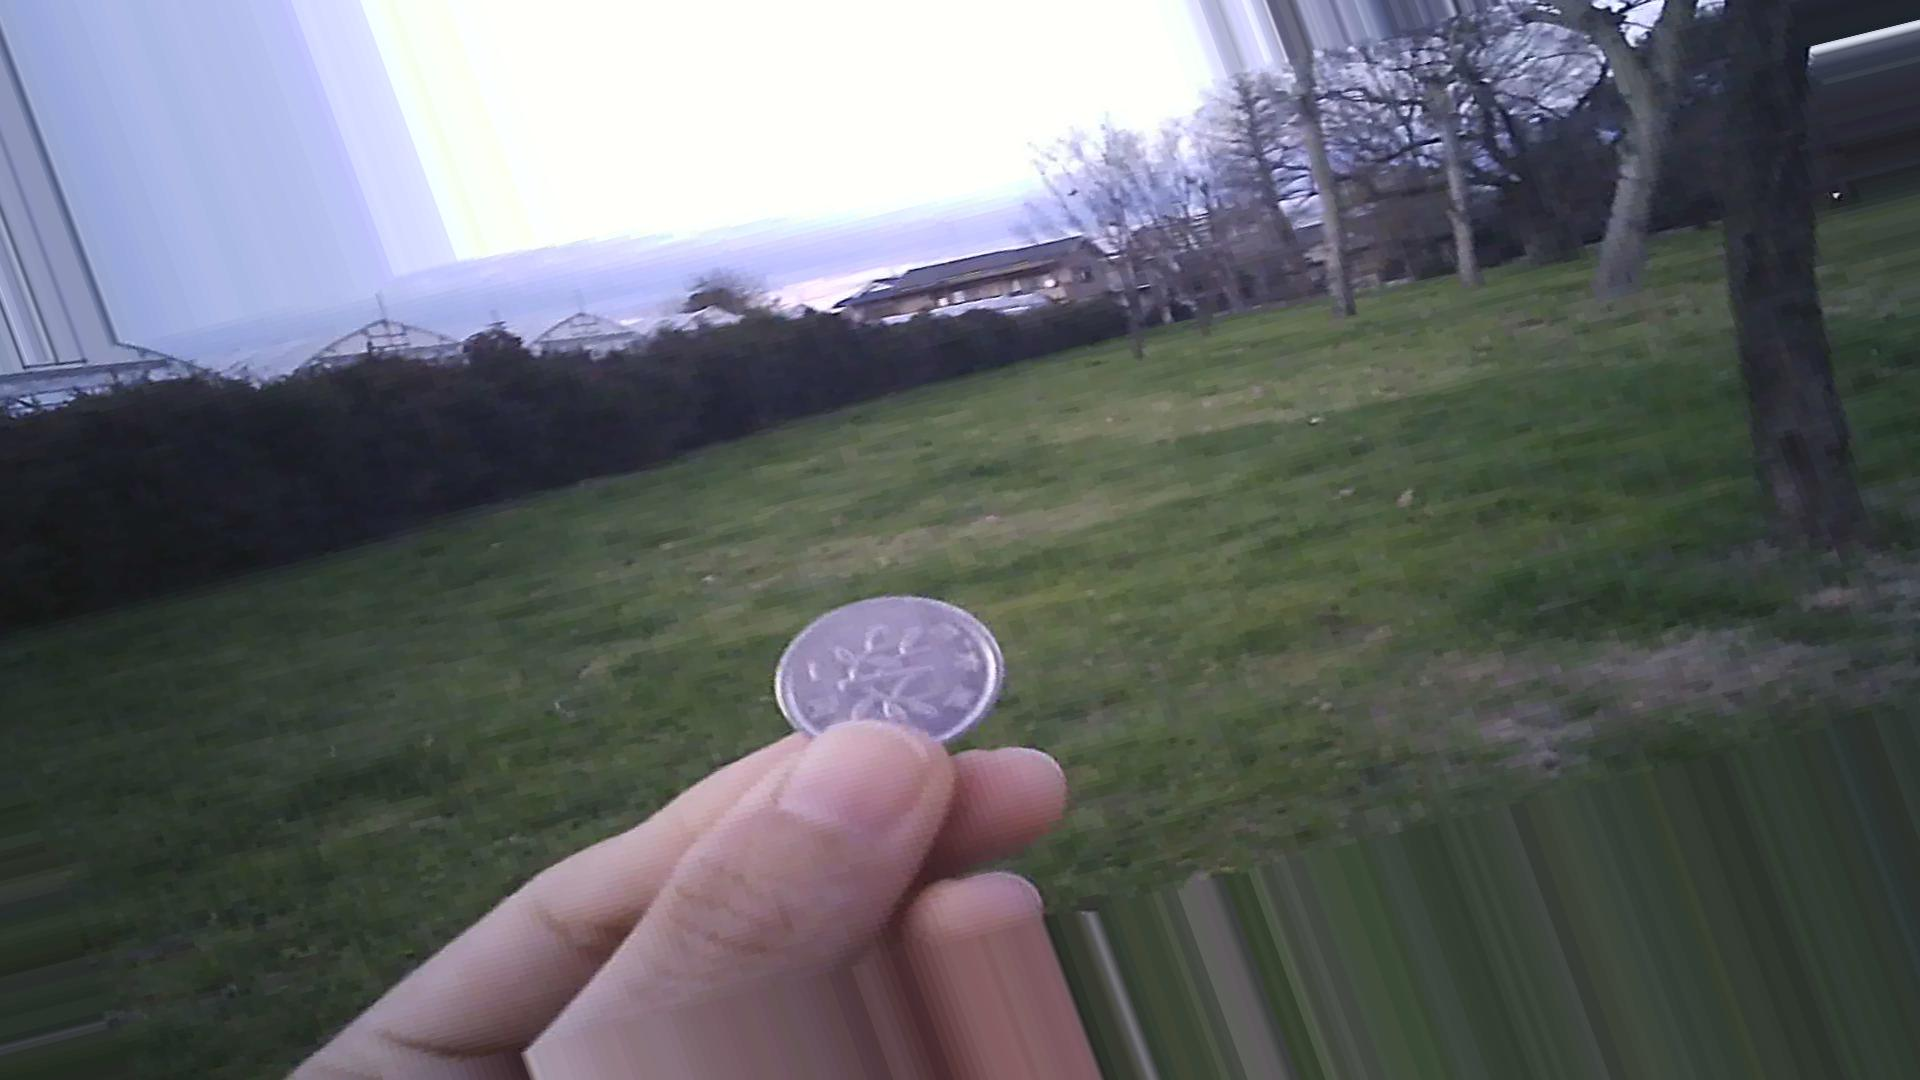1 Yen: (756, 584, 1015, 764)
